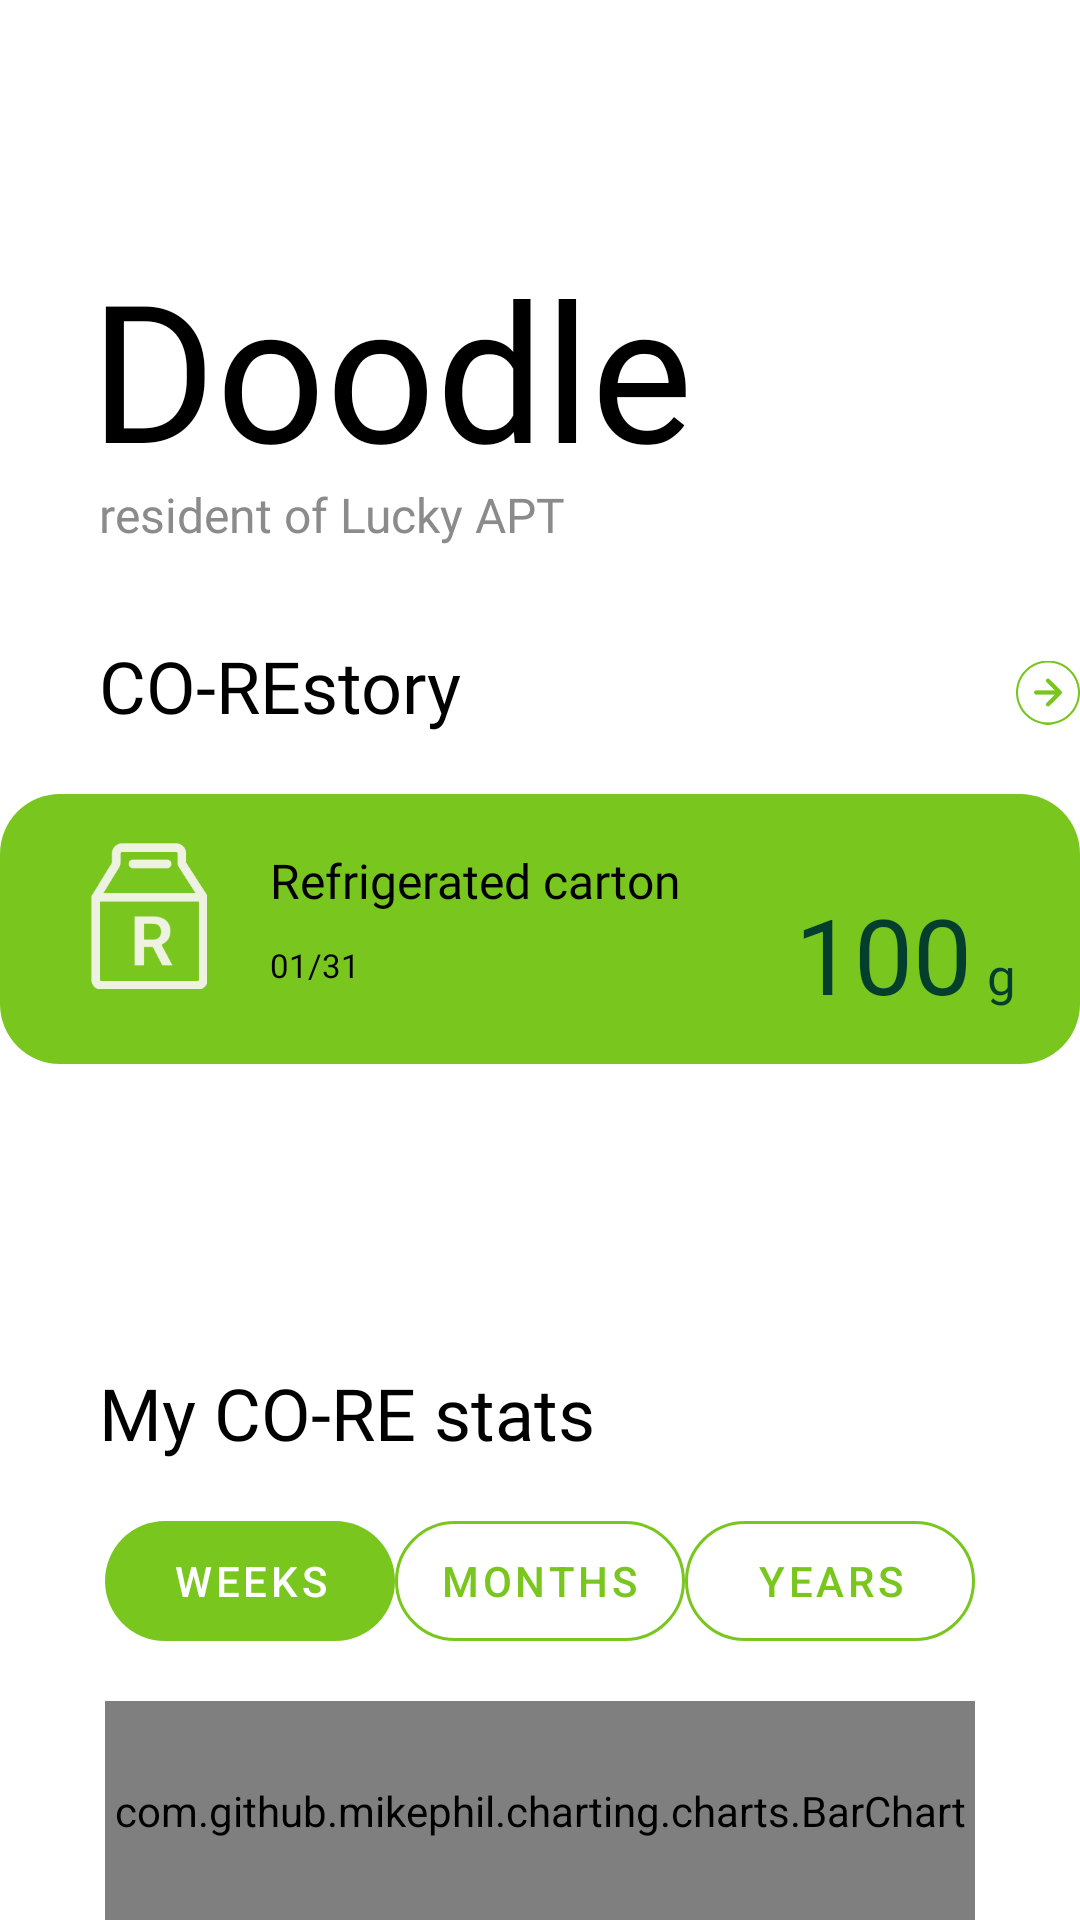

Icon bounding boxes for this 1080px×1920px phone screenshot, format bbox=(x1, y1, x2, y2):
arrow stroke: bbox=(1016, 661, 1080, 725)
milk stroke: bbox=(91, 843, 207, 989)
